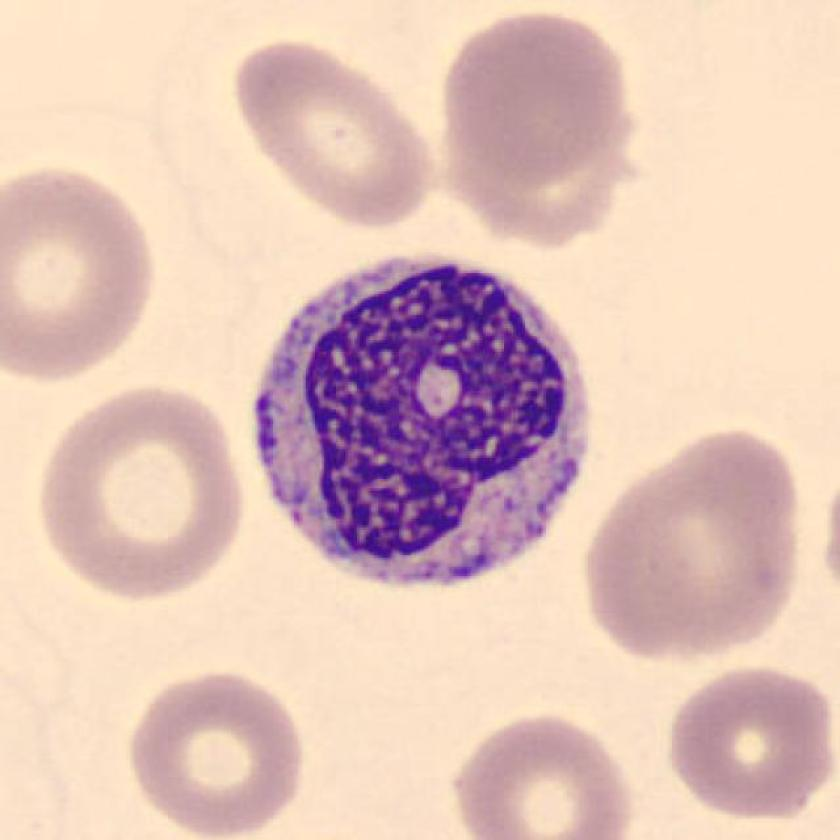neutrophil: (259, 257, 593, 590)
